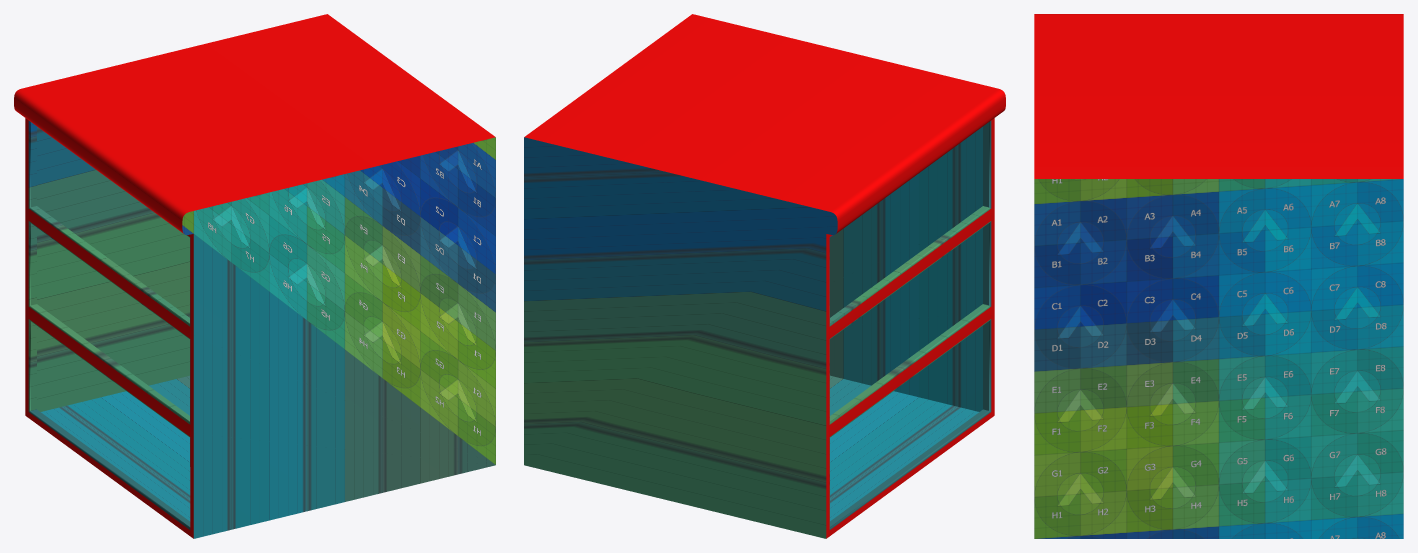
Rendered from mesa sin cajon.fbx.
3 renders of one model, left to right at view 1: azimuth 30°, elevation 25°; view 2: azimuth 150°, elevation 25°; view 3: azimuth 270°, elevation 25°, orthographic. The views are drawn at different scales.
Visible parts, largest first — view 1: Box022; view 2: Box022; view 3: Box022.
Boxes of the visible parts, x1=… form: Box022: x1=14, y1=14, x2=495, y2=538; Box022: x1=524, y1=14, x2=1005, y2=538; Box022: x1=1034, y1=14, x2=1403, y2=538.
Size of the model in its own units: 79.15 by 79.15 by 73.64.
2 materials, 1 textured.
